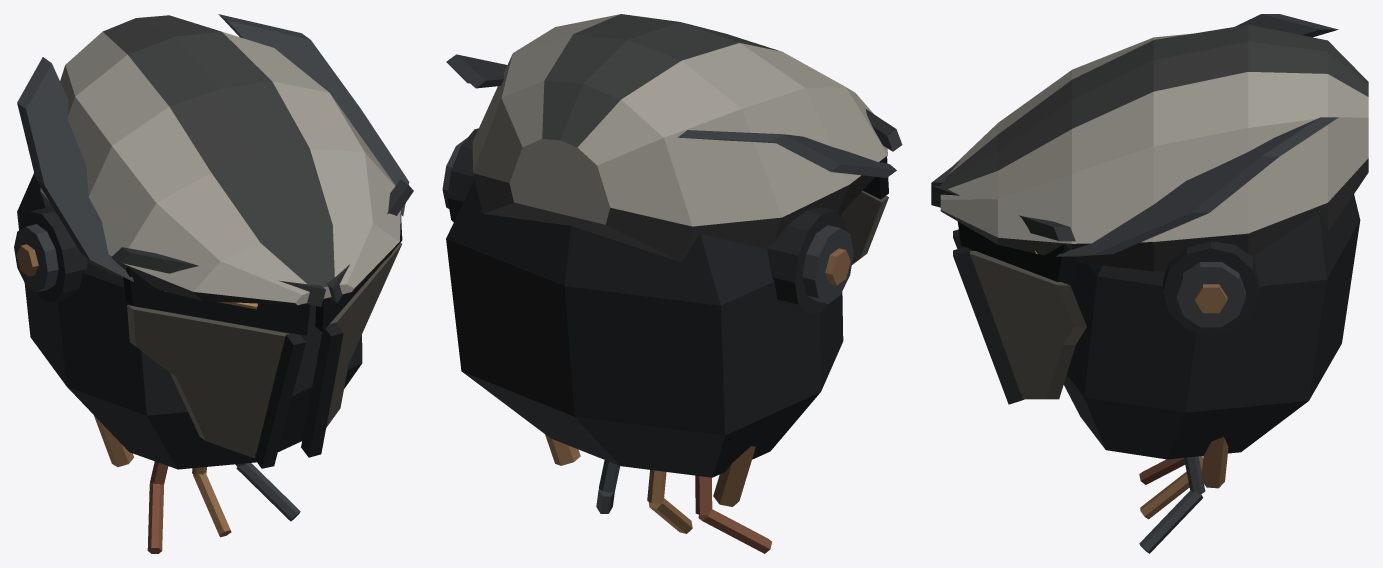
Rendered from A-14_don_15_head.glb.
3 views of the same model, side by side, from view 1: azimuth 30°, elevation 25°; view 2: azimuth 150°, elevation 25°; view 3: azimuth 270°, elevation 25° (orthographic). The views are drawn at different scales.
Parts seen in each view (by area): view 1: A-14_don_15_head; view 2: A-14_don_15_head; view 3: A-14_don_15_head.
Part boxes in pixels (<box>): A-14_don_15_head: <box>14,14,413,553</box>; A-14_don_15_head: <box>442,14,902,553</box>; A-14_don_15_head: <box>931,14,1368,553</box>.
Size of the model in its own units: 0.215 by 0.2838 by 0.236.
